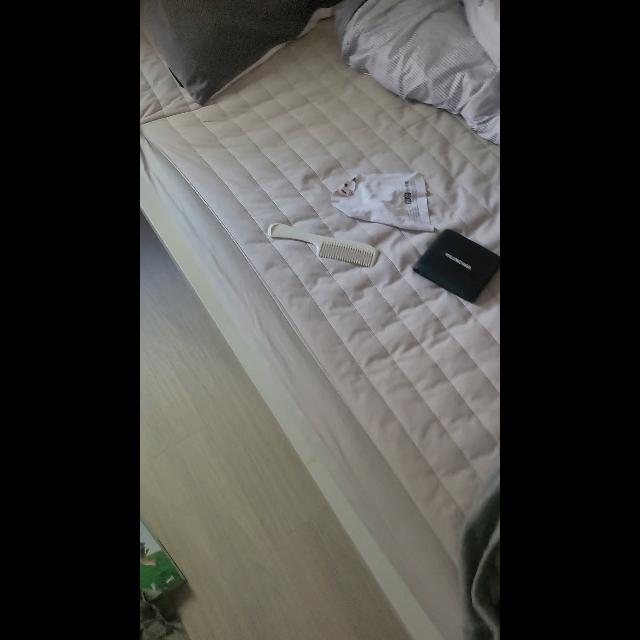COMB: (267, 222, 377, 268)
Glasses cleaning cloth: (331, 172, 434, 232)
WALLET: (412, 228, 500, 304)
